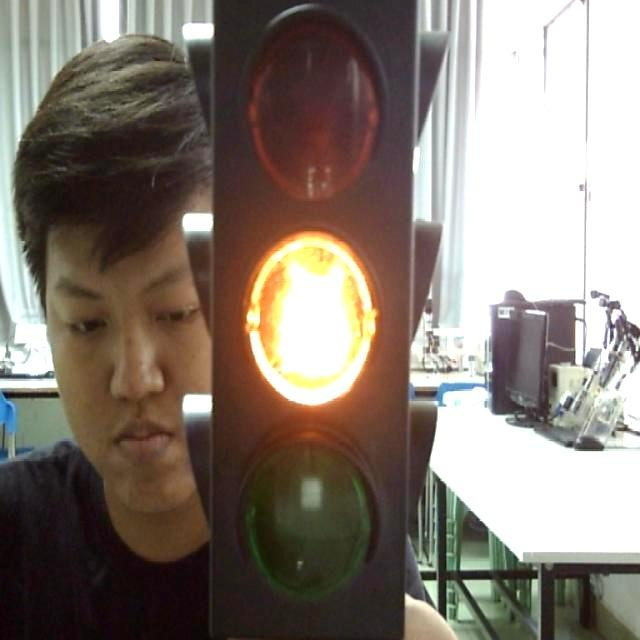Yellow: (208, 0, 412, 640)
